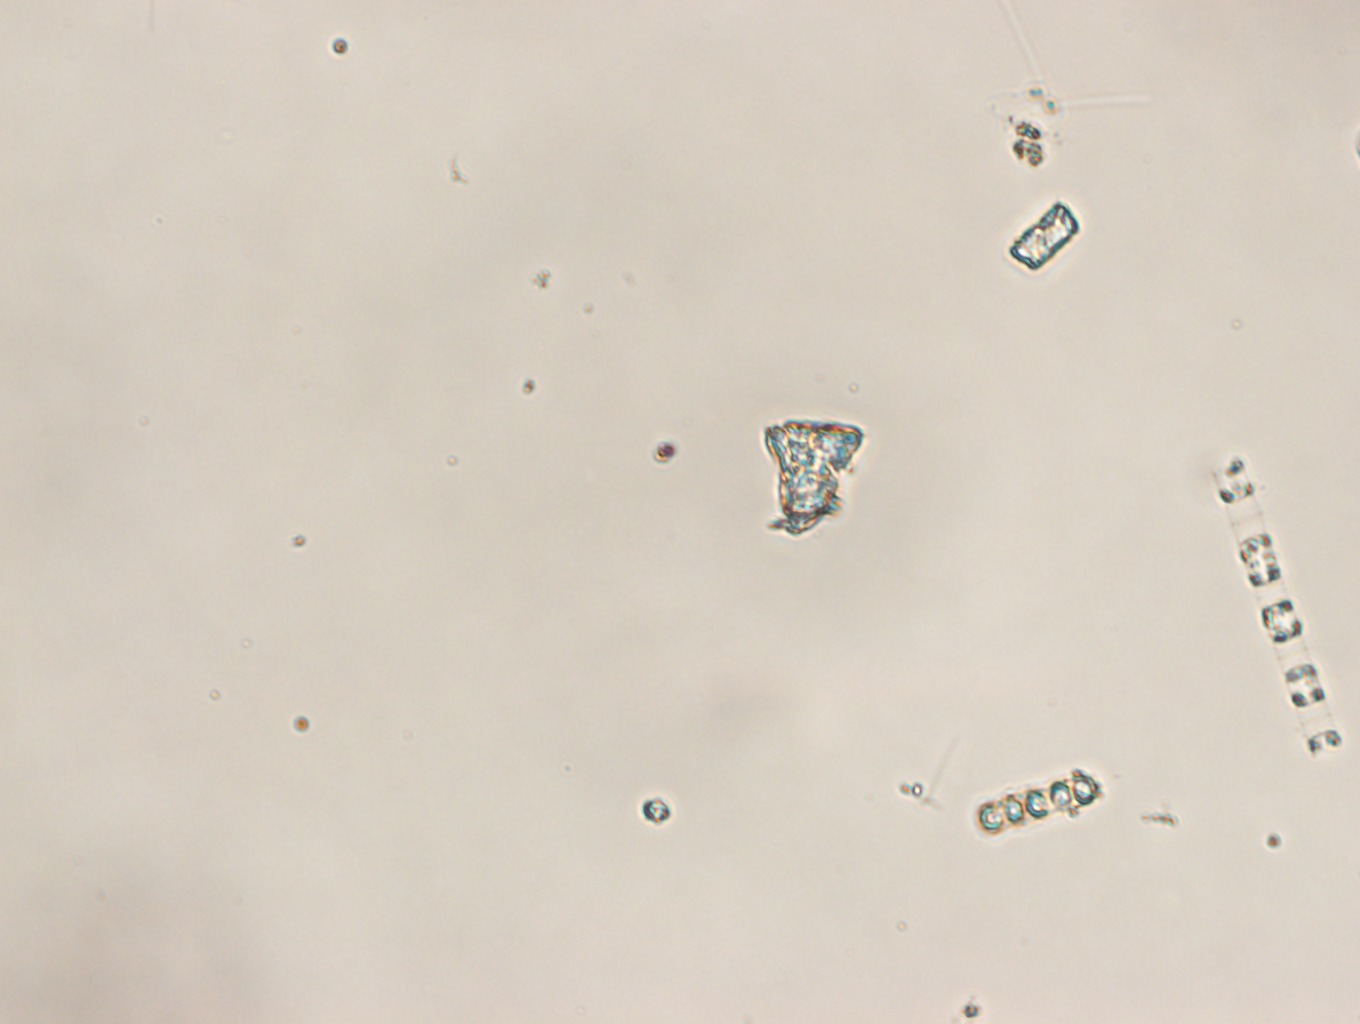skeletonema: (1209, 455, 1341, 760), (972, 770, 1103, 833)
